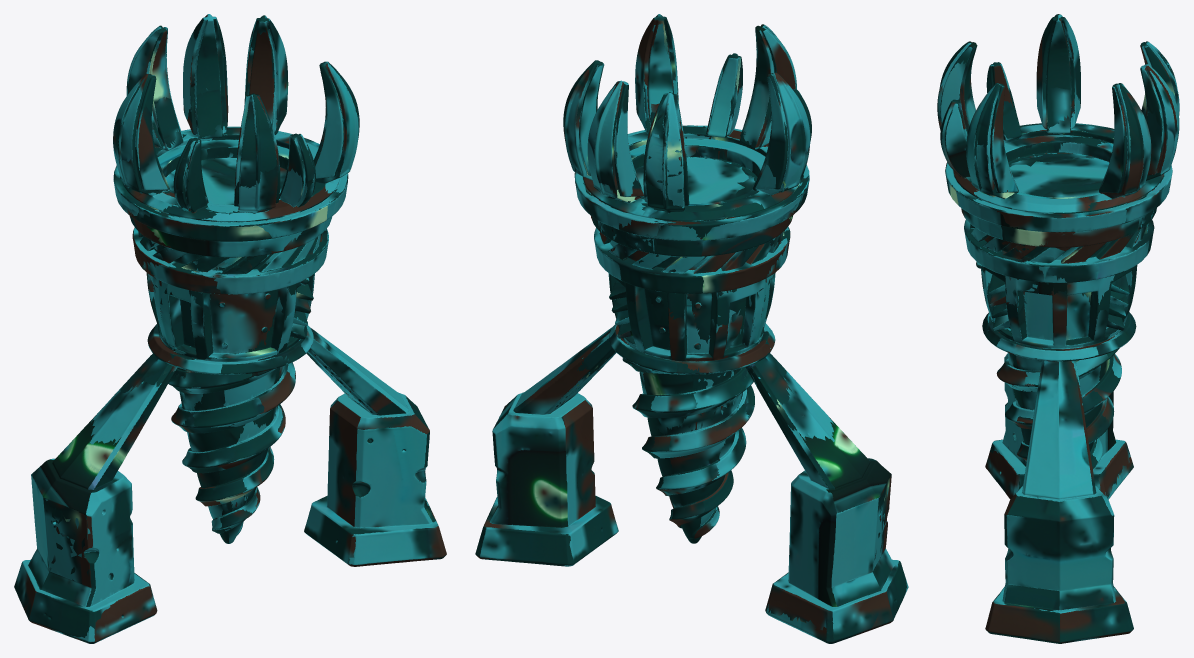
The model's file is สว่านนน1.fbx.
The picture shows the model from 3 angles, left to right: view 1: azimuth 30°, elevation 25°; view 2: azimuth 150°, elevation 25°; view 3: azimuth 270°, elevation 25°; orthographic projection. The views are drawn at different scales.
Parts seen in each view (by area): view 1: texture_pbr_v128; view 2: texture_pbr_v128; view 3: texture_pbr_v128.
Boxes of the visible parts, left/top/right/bottom form: texture_pbr_v128: left=14, top=14, right=446, bottom=643; texture_pbr_v128: left=475, top=14, right=908, bottom=643; texture_pbr_v128: left=937, top=14, right=1179, bottom=643.
Size of the model in its own units: 76.04 by 93.93 by 41.37.
